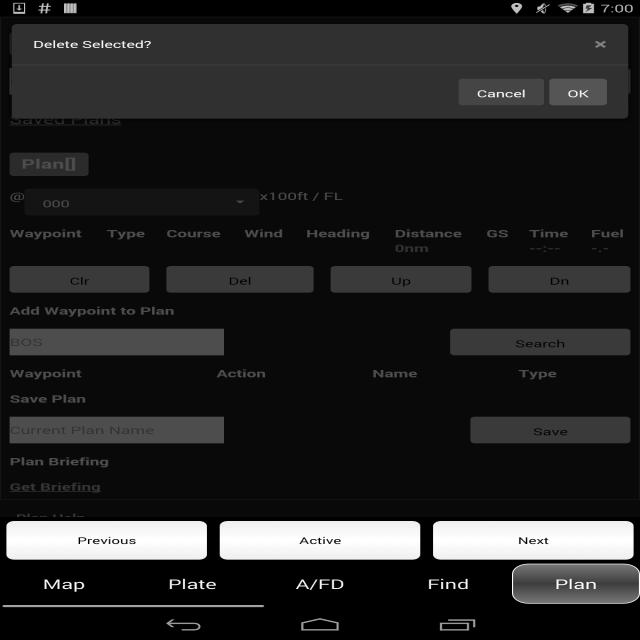Button: (5, 520, 208, 560), (432, 520, 635, 560), (219, 520, 421, 560), (25, 189, 260, 215), (454, 68, 630, 95), (450, 329, 631, 355), (470, 417, 630, 443), (166, 266, 314, 293), (488, 266, 630, 293), (331, 266, 472, 293), (10, 266, 149, 293), (459, 55, 545, 81), (549, 55, 608, 81)
EditText: (10, 68, 224, 95), (10, 402, 224, 429), (10, 329, 224, 355)
TextView: (32, 574, 96, 592), (160, 574, 224, 592), (288, 574, 352, 592), (416, 574, 480, 592), (544, 574, 608, 592)
